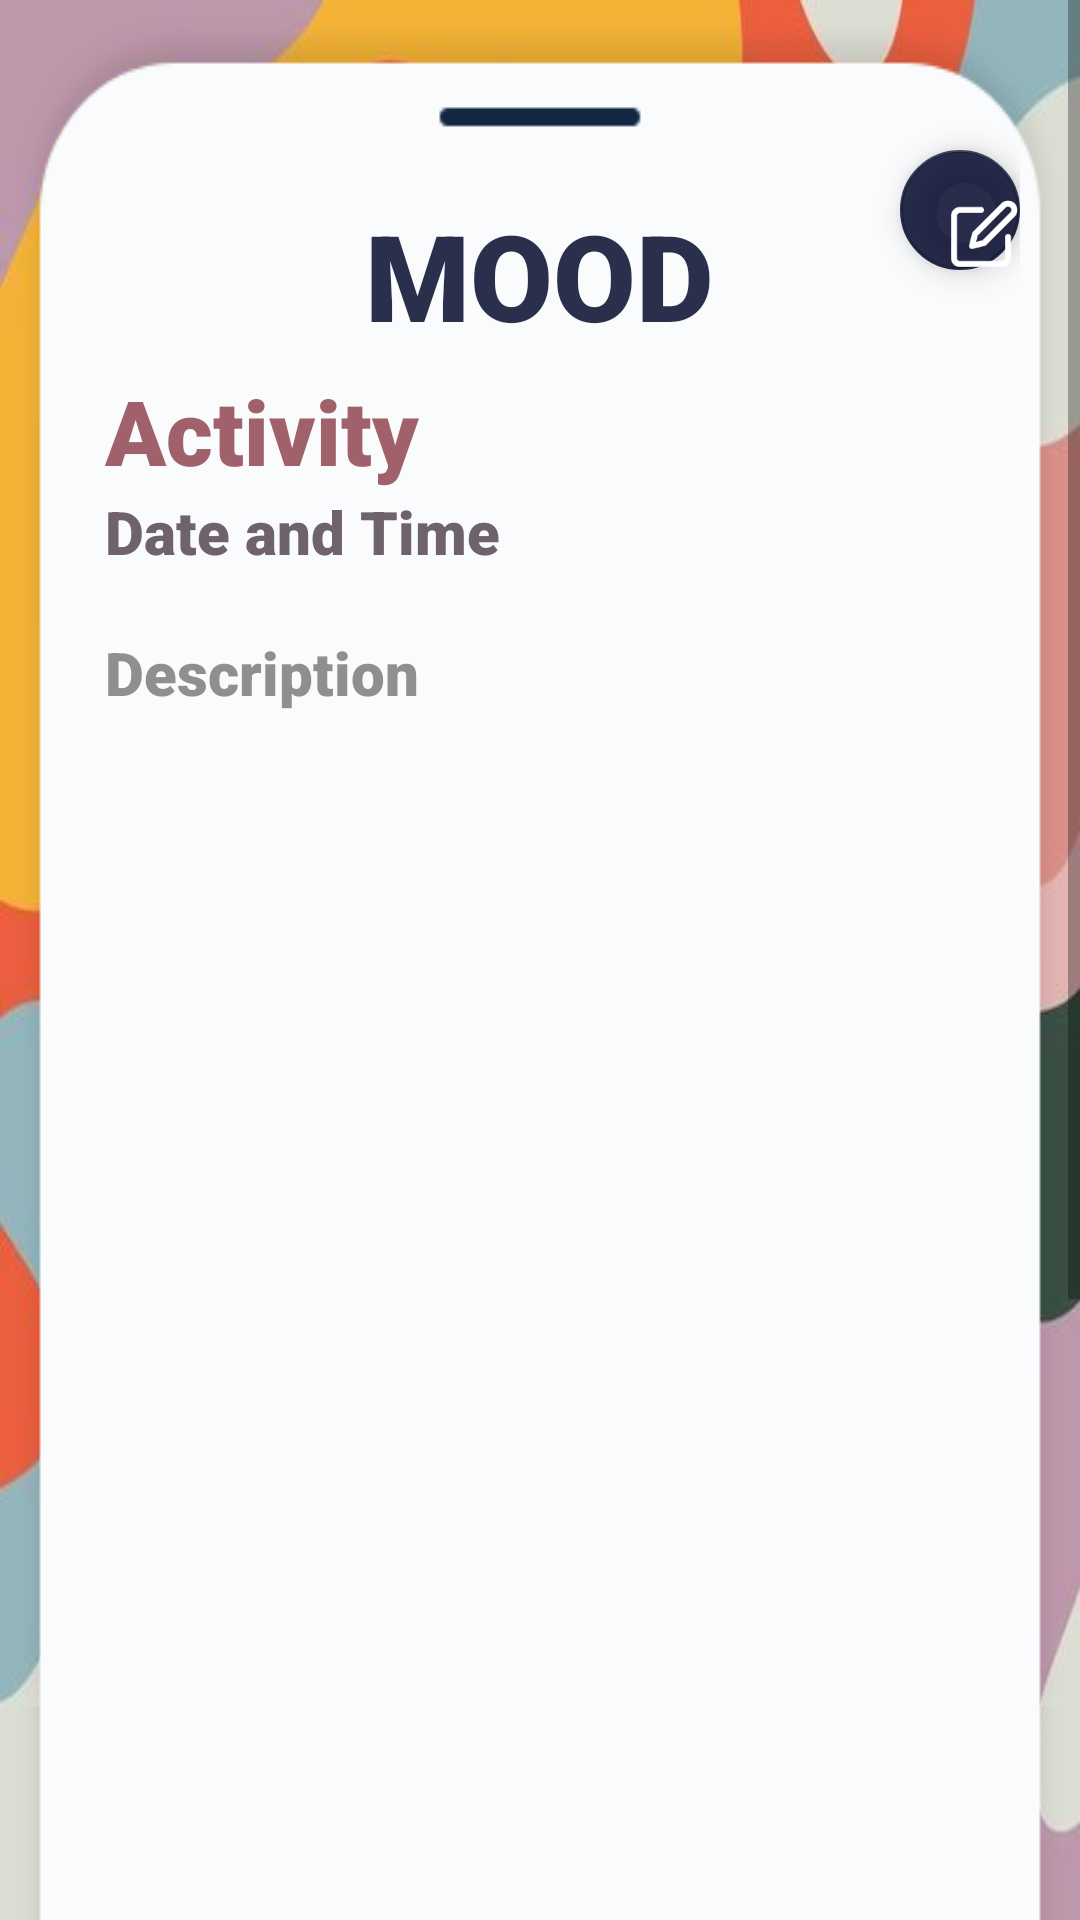

Where icons sit on this 1080*1920 app screen, as {"left": x1, "top": y1, "right": x2, "bottom": y2}:
edit: {"left": 900, "top": 150, "right": 1020, "bottom": 270}
